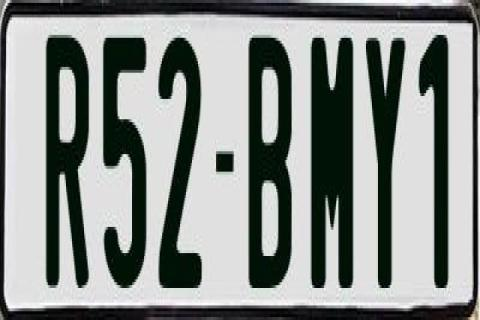0: (103, 38, 154, 306), (158, 29, 207, 285), (419, 26, 449, 282)
B: (249, 32, 293, 294)
M: (308, 29, 354, 294)
R: (42, 26, 88, 282)
Y: (366, 35, 406, 294)
